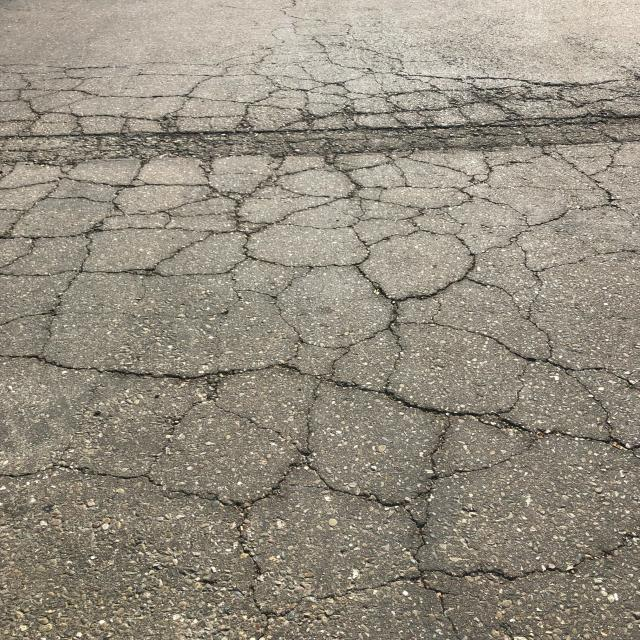Drain Hole: (13, 36, 640, 572)
